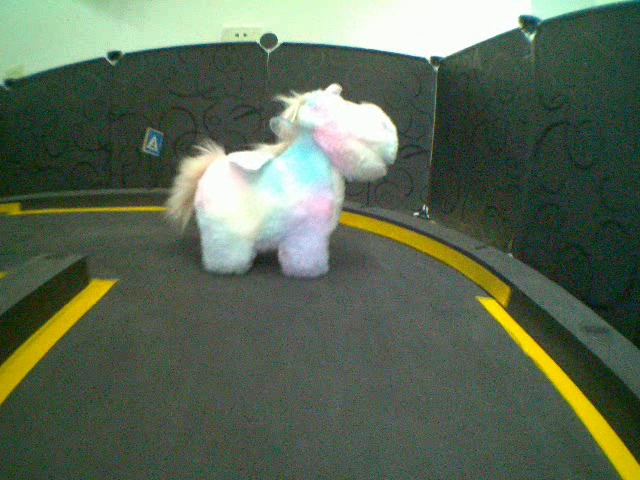unicorn: (165, 69, 400, 282)
